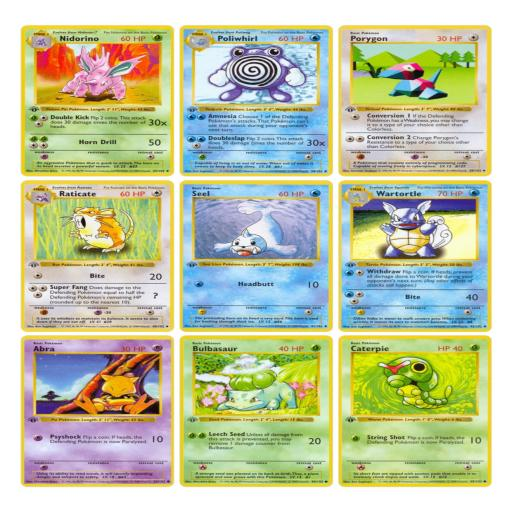card: (330, 180, 491, 337), (336, 23, 496, 178), (20, 333, 177, 490), (175, 334, 334, 489), (18, 181, 178, 334), (337, 334, 494, 489), (178, 24, 337, 177), (21, 24, 177, 178), (176, 181, 331, 335)
